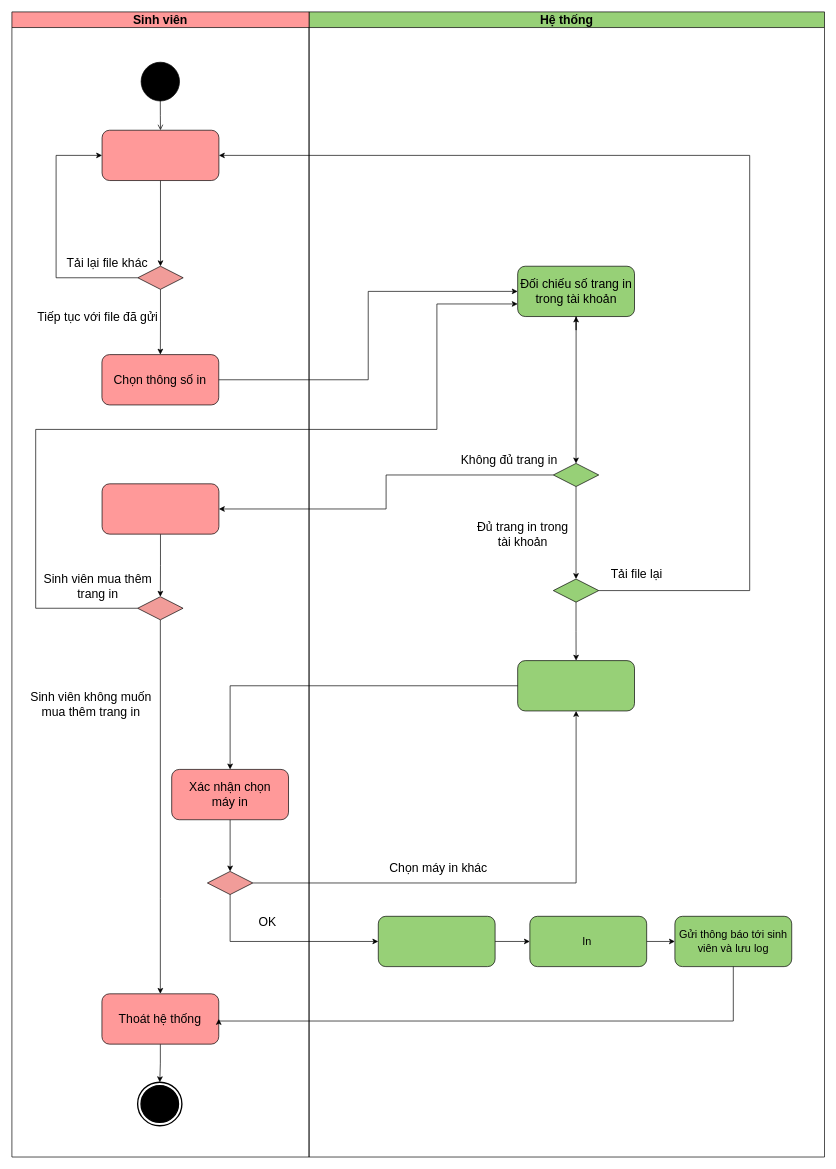
This 836x1169 diagram has some shape labels left out. Here are the shapes that lost their labels. From the top down, the centre of each, then its label:
At point (160, 155): "Tải file in lên hệ thống".
At point (160, 508): "Mua thêm trang in".
At point (576, 685): "Chọn máy in".
At point (436, 941): "Vào hàng đợi chờ in".
